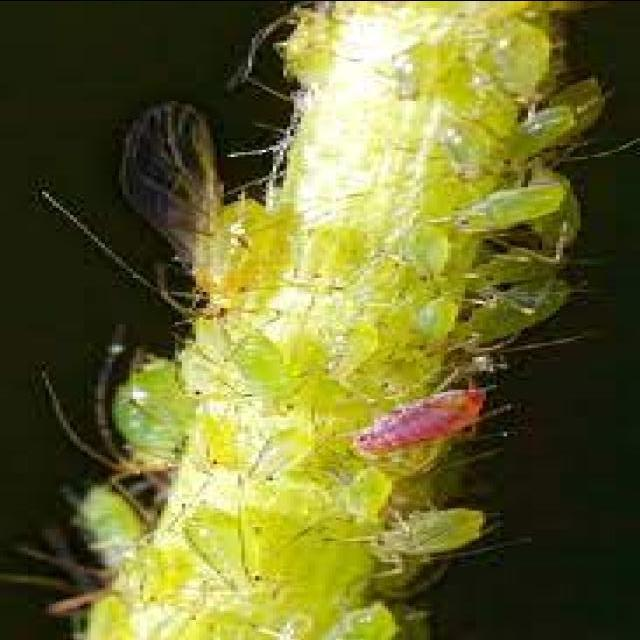aphid: (41, 326, 188, 476), (54, 470, 182, 602), (329, 496, 522, 580), (177, 184, 302, 304), (350, 373, 504, 458), (468, 14, 560, 114), (458, 276, 585, 348), (487, 92, 600, 168), (447, 178, 590, 233), (254, 507, 324, 609), (304, 318, 394, 388), (182, 496, 244, 593), (236, 324, 300, 412), (542, 69, 618, 137), (247, 424, 314, 495), (386, 36, 445, 110), (338, 463, 406, 522), (402, 218, 454, 291), (180, 414, 236, 478), (300, 220, 348, 290), (406, 296, 464, 348), (446, 115, 489, 185)
